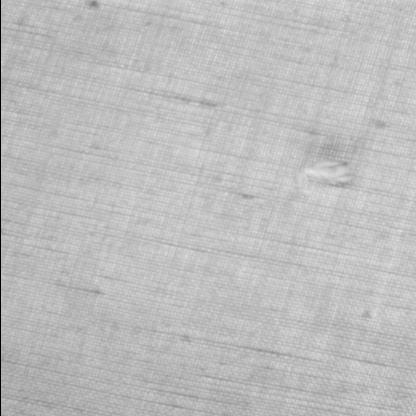objects: (291, 155, 357, 197)
